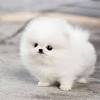dog: (11, 13, 97, 96)
